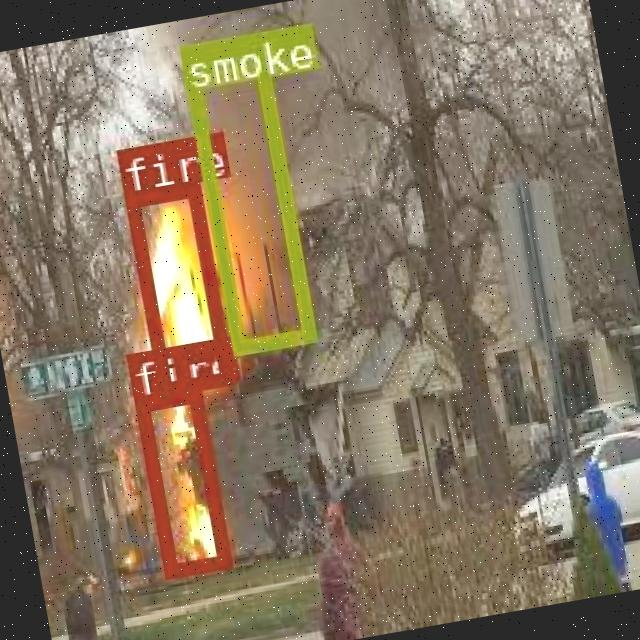fire: (122, 182, 231, 392), (133, 386, 228, 576)
smoke: (176, 29, 313, 350)
